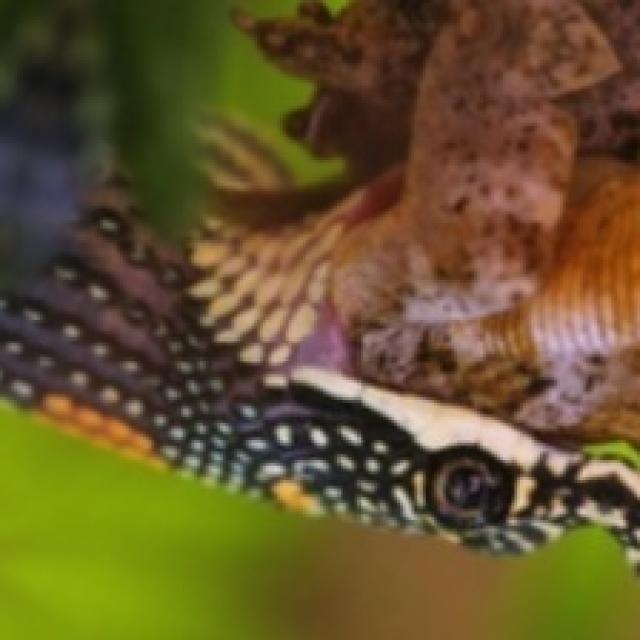paradise tree snake: (0, 0, 637, 637), (140, 3, 217, 77)
